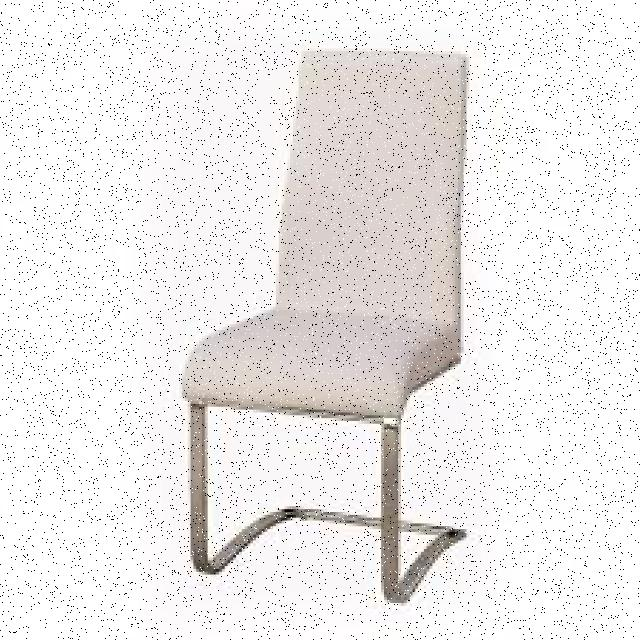bottle: (179, 44, 472, 606)
